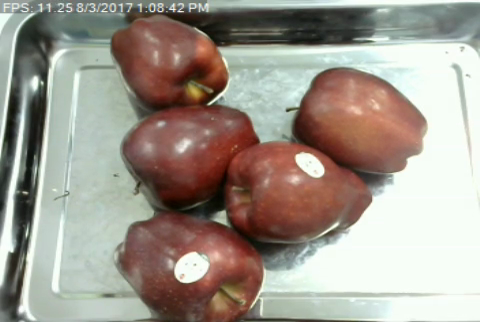Apple: (221, 139, 376, 248), (111, 209, 265, 318), (284, 64, 431, 176), (116, 101, 262, 213), (107, 10, 231, 113)
